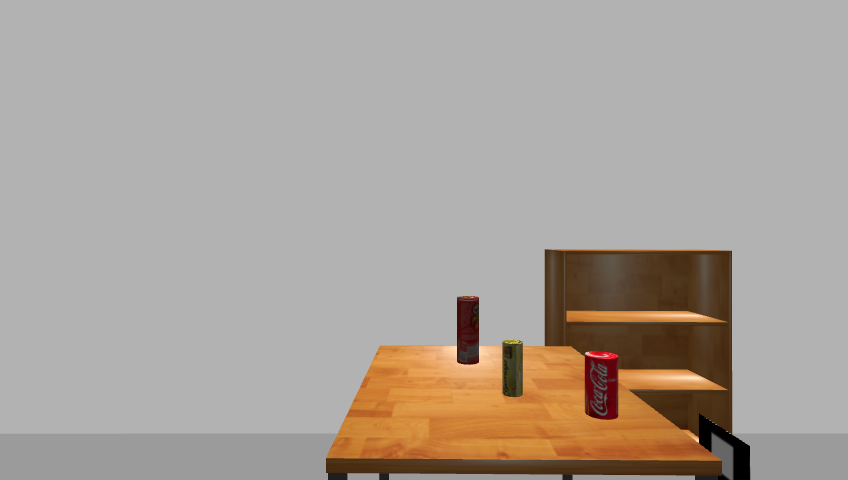aruco marker: (693, 414, 755, 480)
biscuits pack: (502, 340, 524, 399)
bookshelf: (540, 246, 740, 480)
coke can: (583, 352, 620, 420)
dinner table: (321, 344, 725, 480)
pringles can: (454, 295, 481, 366)
